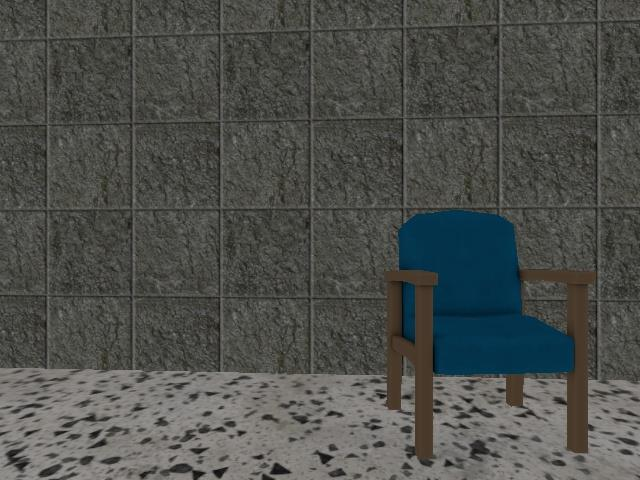chair: (384, 211, 596, 458)
